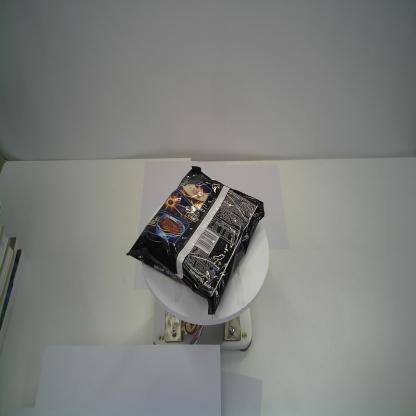Instant Noodles: (125, 164, 266, 316)
